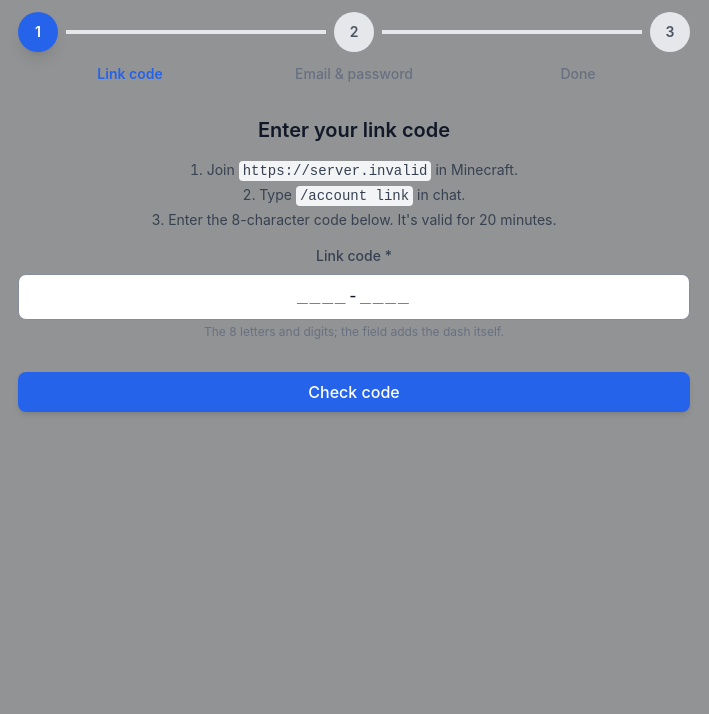
Scenario: RegisterForm › centres the link-code step like /link and keeps the email and password step left-aligned (#229 fix round)
This screenshot has width=709, height=714.
Type "ABCD1234" into the field with test id "link-code" at (354,297), box [18,274,690,320]
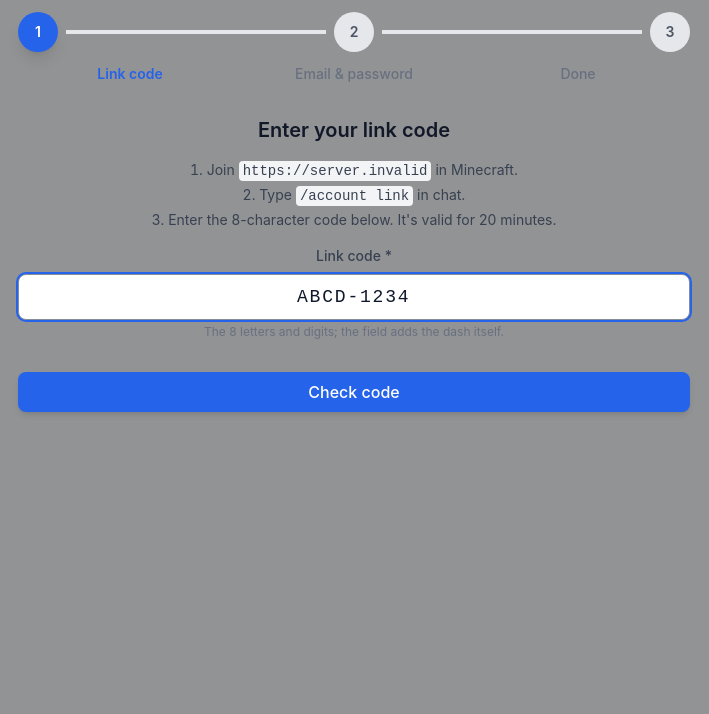
Click the button "Check code" at (354,392), box [18,372,690,412]
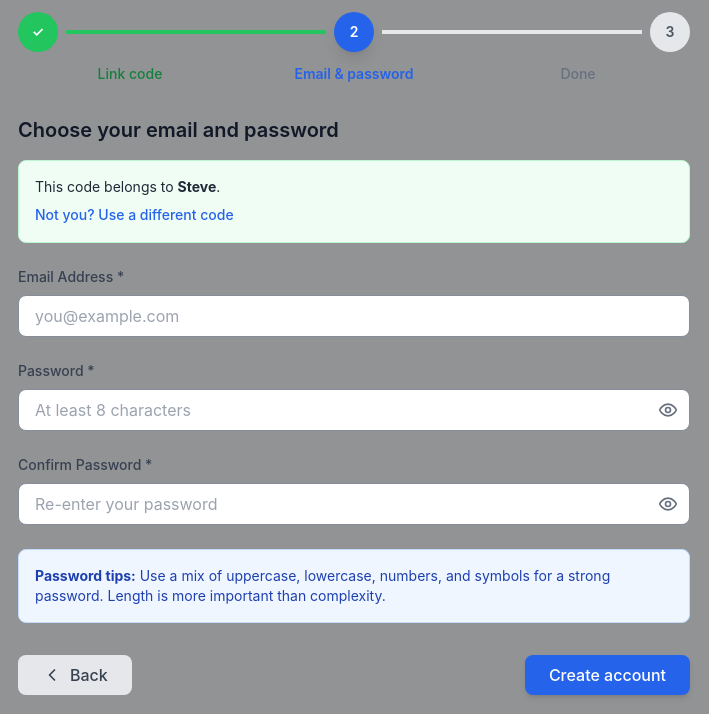
Check: the button "Back" is shown, box [18,655,132,695]
